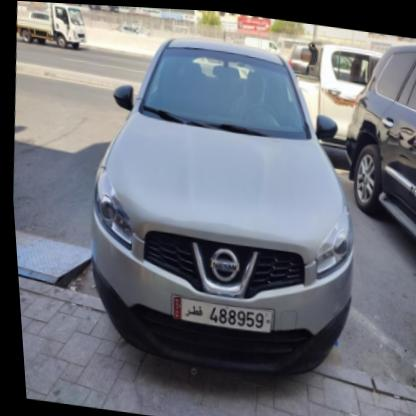np: (160, 285, 274, 338)
